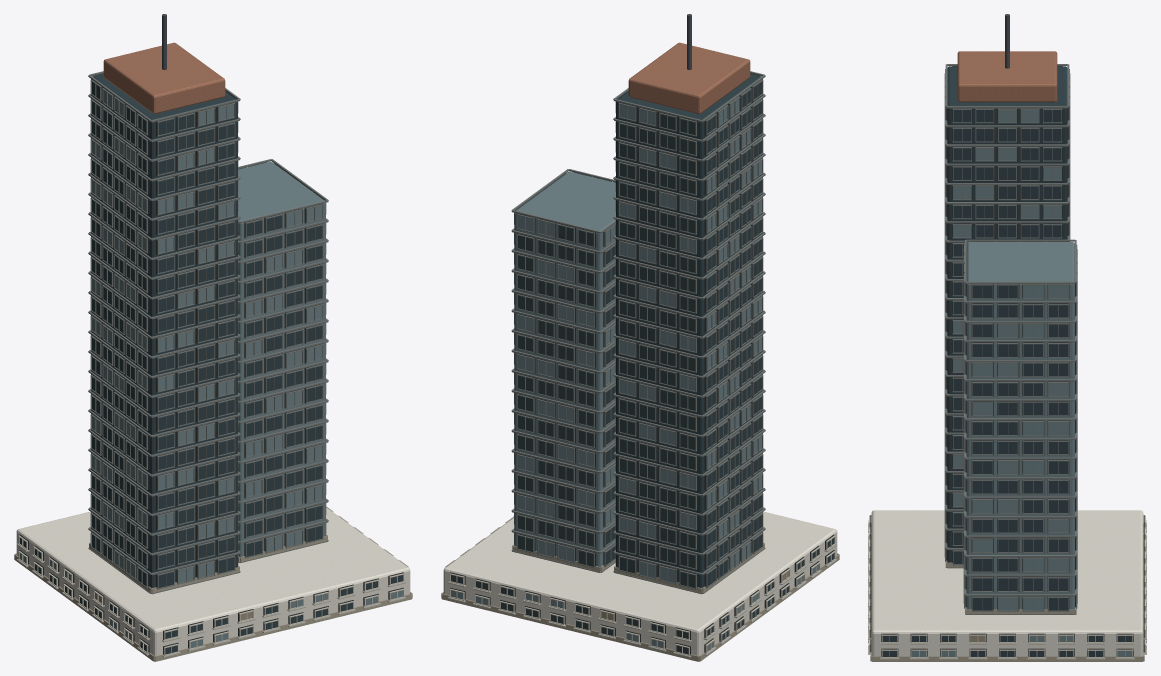
File: RES_TOWER_4x4_003.glb
3 renders of one model, left to right at view 1: azimuth 30°, elevation 25°; view 2: azimuth 150°, elevation 25°; view 3: azimuth 270°, elevation 25°, orthographic. The views are drawn at different scales.
Visible parts, largest first — view 1: RES_TOWER_4x4_003_Visual; view 2: RES_TOWER_4x4_003_Visual; view 3: RES_TOWER_4x4_003_Visual.
Boxes of the visible parts, <box> form: RES_TOWER_4x4_003_Visual: <box>14,14,412,661</box>; RES_TOWER_4x4_003_Visual: <box>441,14,839,661</box>; RES_TOWER_4x4_003_Visual: <box>868,14,1146,661</box>.
Size of what is drawn, in the model's own units: 6.71 by 14.05 by 6.32.
11 materials, 5 textured.
